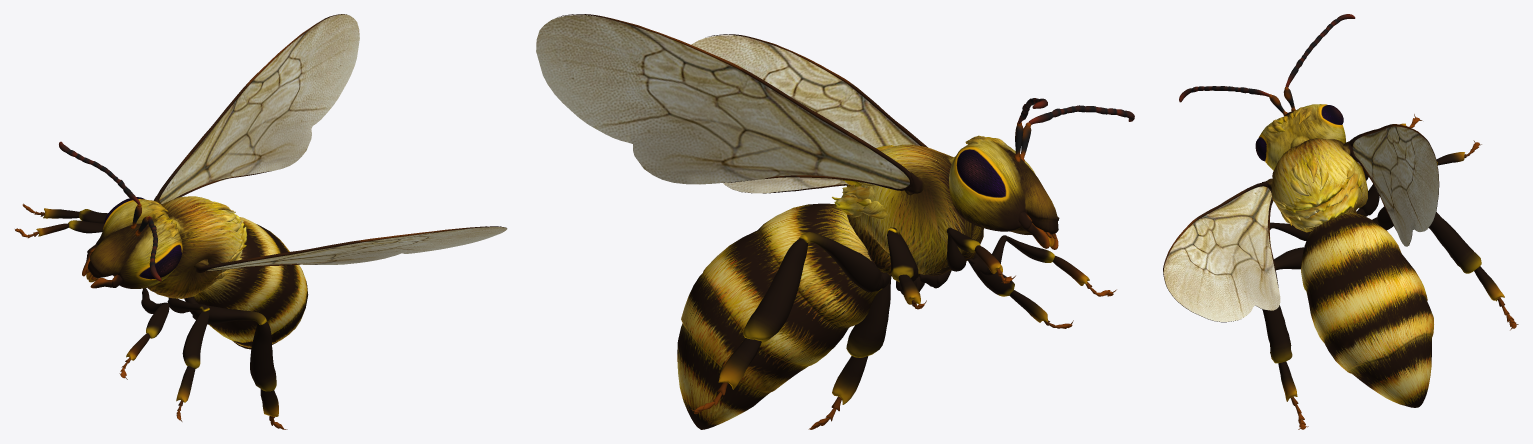
Rendered from honeybee.glb.
The picture shows the model from 3 angles, left to right: view 1: azimuth 30°, elevation 25°; view 2: azimuth 150°, elevation 25°; view 3: azimuth 270°, elevation 25°; orthographic projection. The views are drawn at different scales.
Parts seen in each view (by area): view 1: node_id115_113; view 2: node_id115_113; view 3: node_id115_113.
Part boxes in pixels (x1,y1,x2,y2): node_id115_113: (15,14,507,429); node_id115_113: (536,14,1134,429); node_id115_113: (1163,14,1518,429).
Bounding box in the file's own units: 0.6714 × 0.5792 × 0.5497.
Materials: 1 (1 with a texture image).
